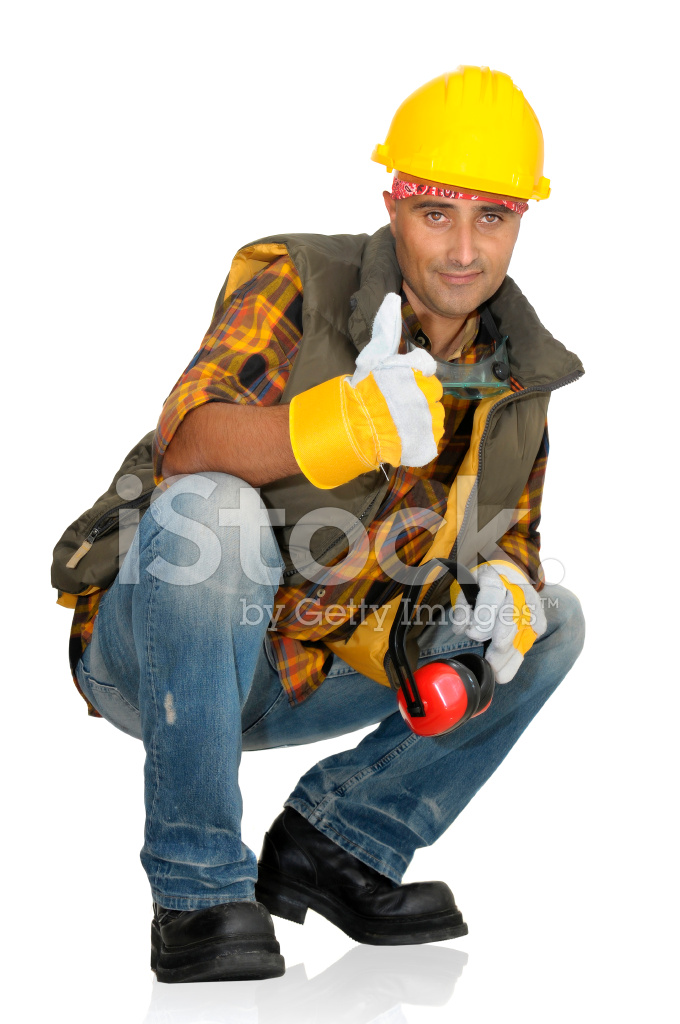safetyhat: (96, 64, 631, 963)
